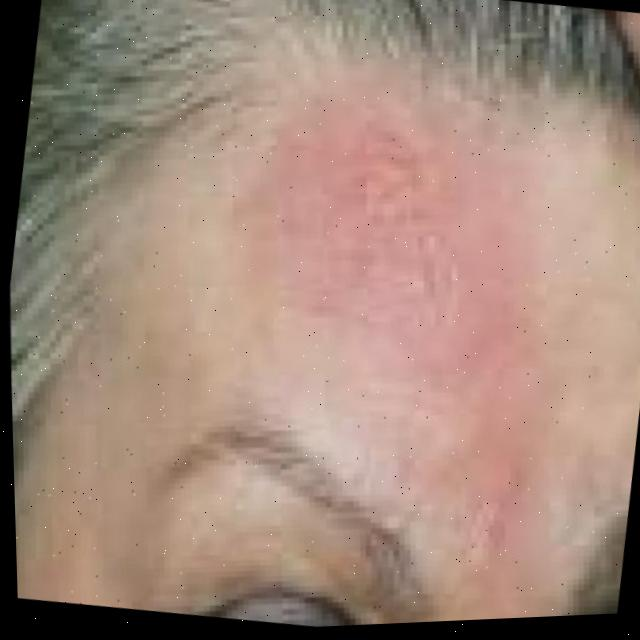Shingles: (277, 106, 525, 375)
